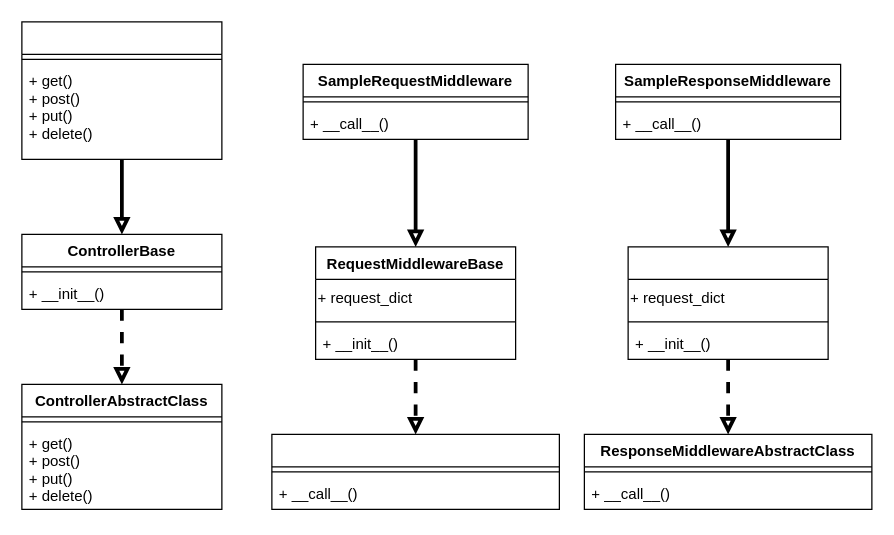
The diagram is 894 pixels wide and 535 high, and some of its shapes have lost their labels. The box of each missing label's shape, as (x1, y1, x2, y2) in pixels:
RequestMiddlewareAbstractClass: (271, 433, 559, 509)
ResponseMiddlewareBase: (627, 246, 828, 359)
SampleController: (21, 21, 222, 159)
